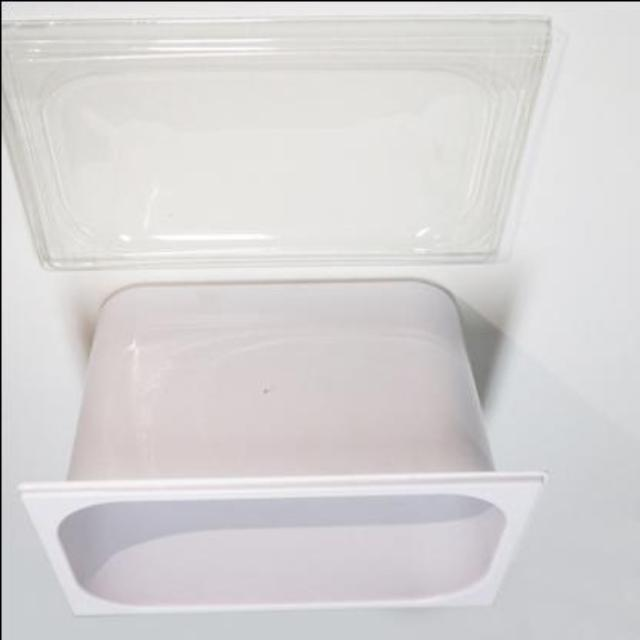plastic_box: (14, 287, 540, 607)
